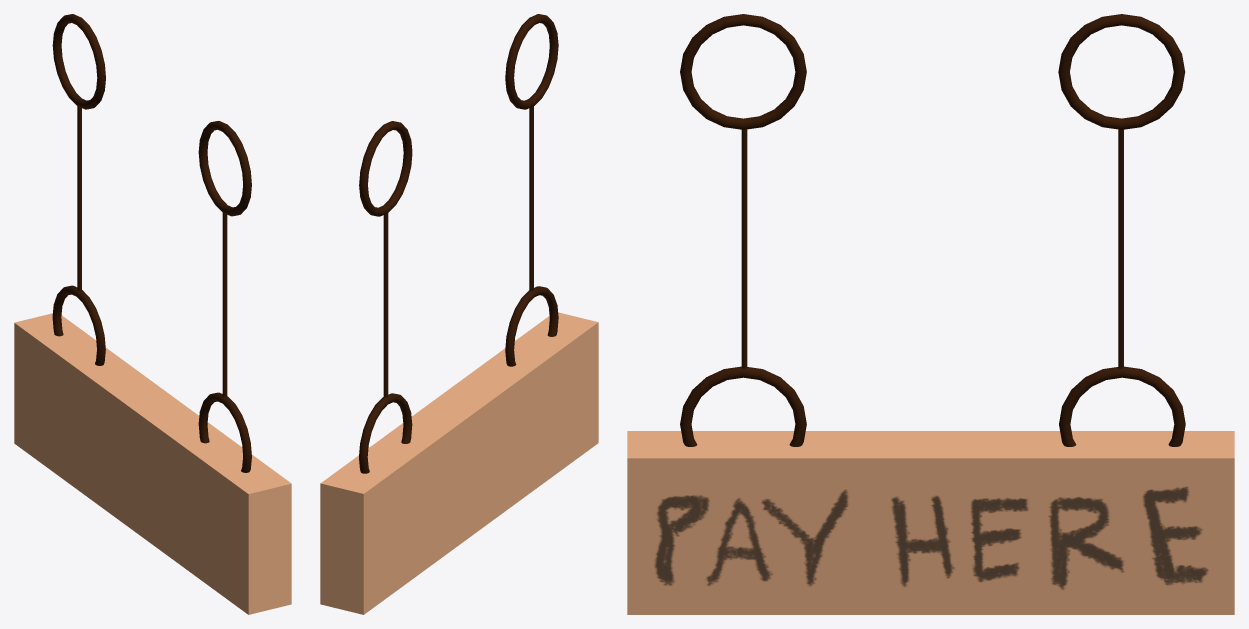
The model's file is letrero_sin_triangular.obj.
3 views of the same model, side by side, from view 1: azimuth 30°, elevation 25°; view 2: azimuth 150°, elevation 25°; view 3: azimuth 270°, elevation 25° (orthographic). The views are drawn at different scales.
Visible parts, largest first — view 1: barril:pCube1, barril:pTorus3, barril:pTorus4, barril:pTorus2, barril:pTorus1, barril:pCylinder1, barril:pCylinder2; view 2: barril:pCube1, barril:pTorus3, barril:pTorus4, barril:pTorus2, barril:pTorus1, barril:pCylinder2, barril:pCylinder1; view 3: barril:pCube1, barril:pTorus4, barril:pTorus3, barril:pTorus1, barril:pTorus2, barril:pCylinder1, barril:pCylinder2.
Boxes of the visible parts, x1,y1,x2,y2 form: barril:pCube1: [14, 313, 291, 614]; barril:pTorus3: [198, 121, 251, 216]; barril:pTorus4: [52, 14, 105, 109]; barril:pTorus2: [52, 285, 105, 365]; barril:pTorus1: [198, 392, 251, 472]; barril:pCylinder1: [222, 213, 227, 396]; barril:pCylinder2: [77, 106, 81, 290]; barril:pCube1: [320, 312, 598, 614]; barril:pTorus3: [505, 14, 558, 109]; barril:pTorus4: [359, 121, 412, 216]; barril:pTorus2: [359, 393, 412, 473]; barril:pTorus1: [505, 286, 558, 366]; barril:pCylinder2: [383, 213, 388, 397]; barril:pCylinder1: [529, 106, 533, 291]; barril:pCube1: [627, 431, 1234, 614]; barril:pTorus4: [1058, 14, 1185, 129]; barril:pTorus3: [680, 14, 806, 129]; barril:pTorus1: [680, 366, 806, 446]; barril:pTorus2: [1059, 366, 1185, 446]; barril:pCylinder1: [741, 129, 747, 368]; barril:pCylinder2: [1118, 129, 1123, 368].
Size of the model in its own units: 0.2541 by 2.54 by 2.38.
Materials: 3 (3 with a texture image).
